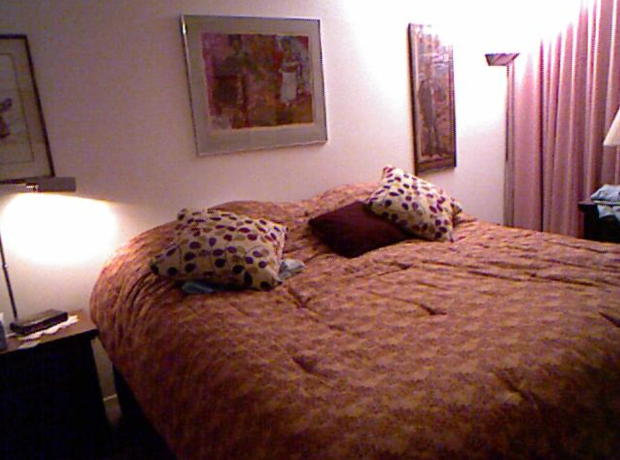cabinet: (0, 308, 98, 441)
table: (576, 187, 620, 242)
